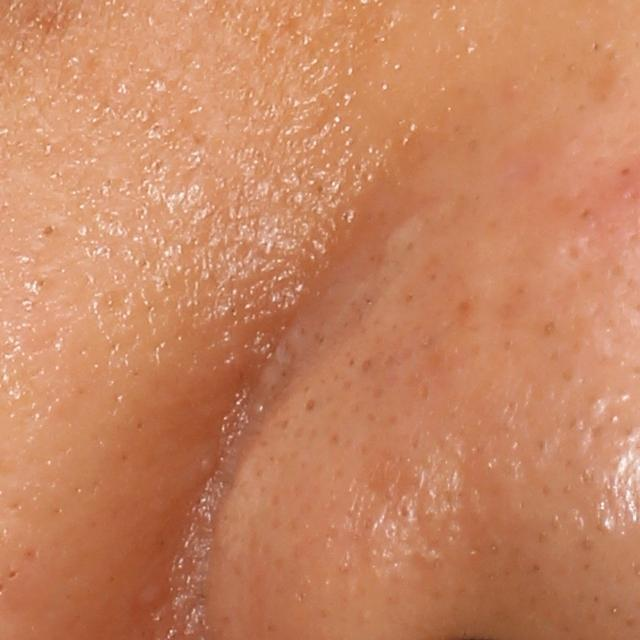comedo: (41, 221, 57, 240)
melasma: (11, 3, 81, 44)
